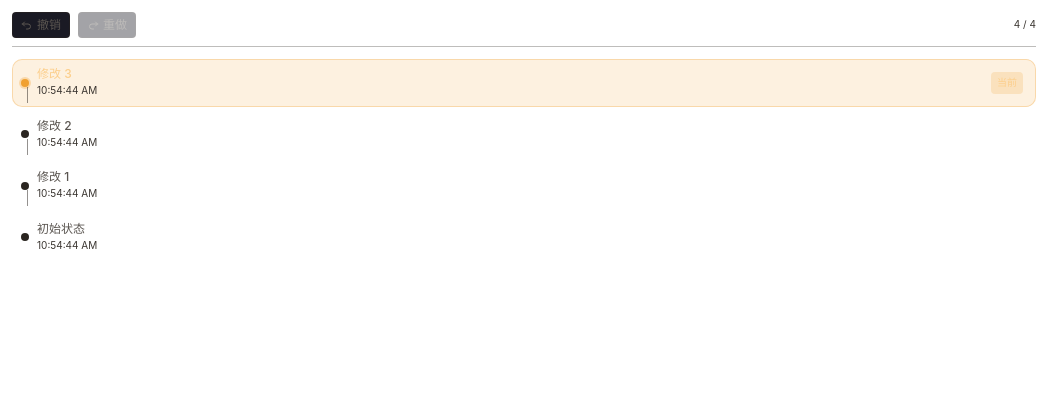
VersionTimeline - 预览 › 点击同一项再次点击取消预览
Click the button "修改 3 10:54:44 AM 当前": (54, 74) [12,59,1036,106]
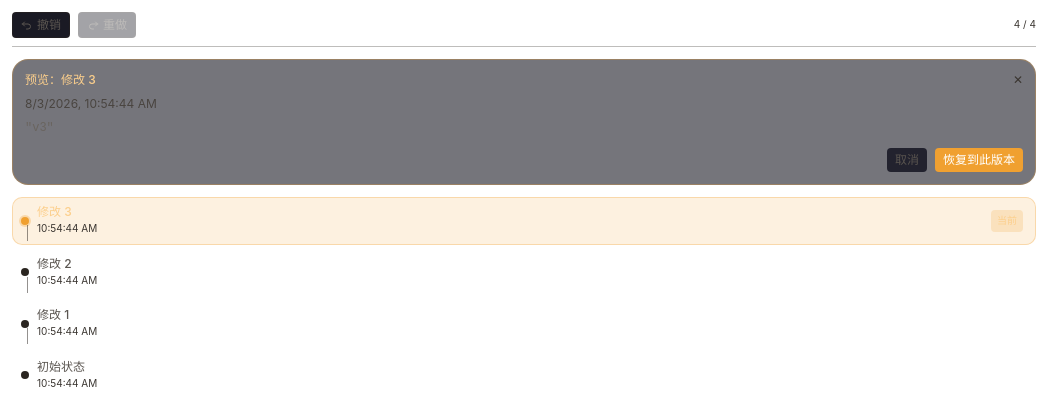
Check: the element with test id "version-preview" is shown, box [12,59,1036,185]
Click the button "修改 3 10:54:44 AM 当前": (54, 212) [12,197,1036,244]
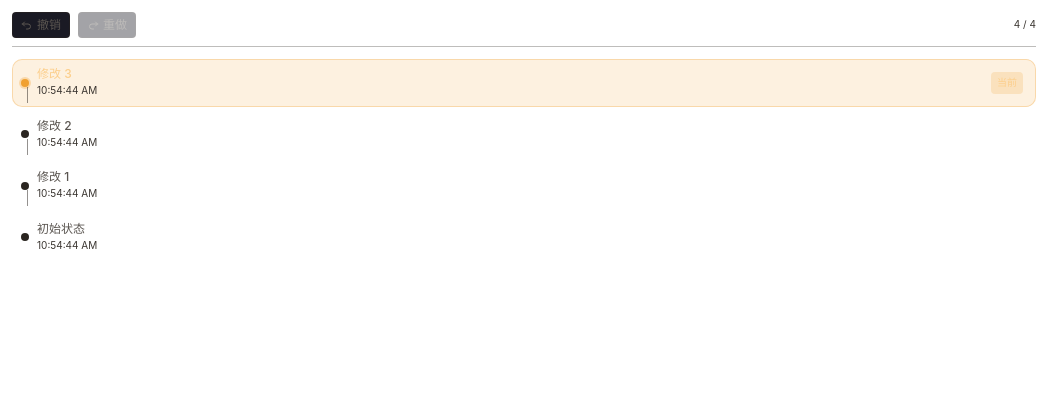
Check: the element with test id "version-preview" is gone
